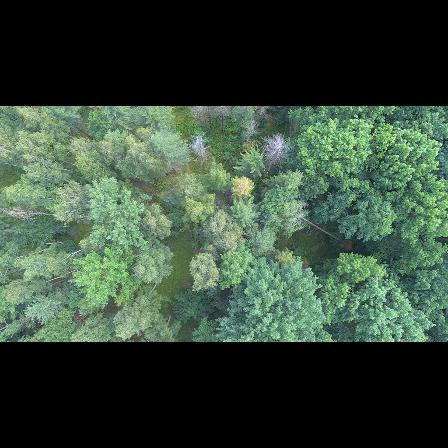Dead: (259, 129, 291, 182), (0, 204, 58, 224), (188, 106, 228, 135), (186, 135, 214, 169)
